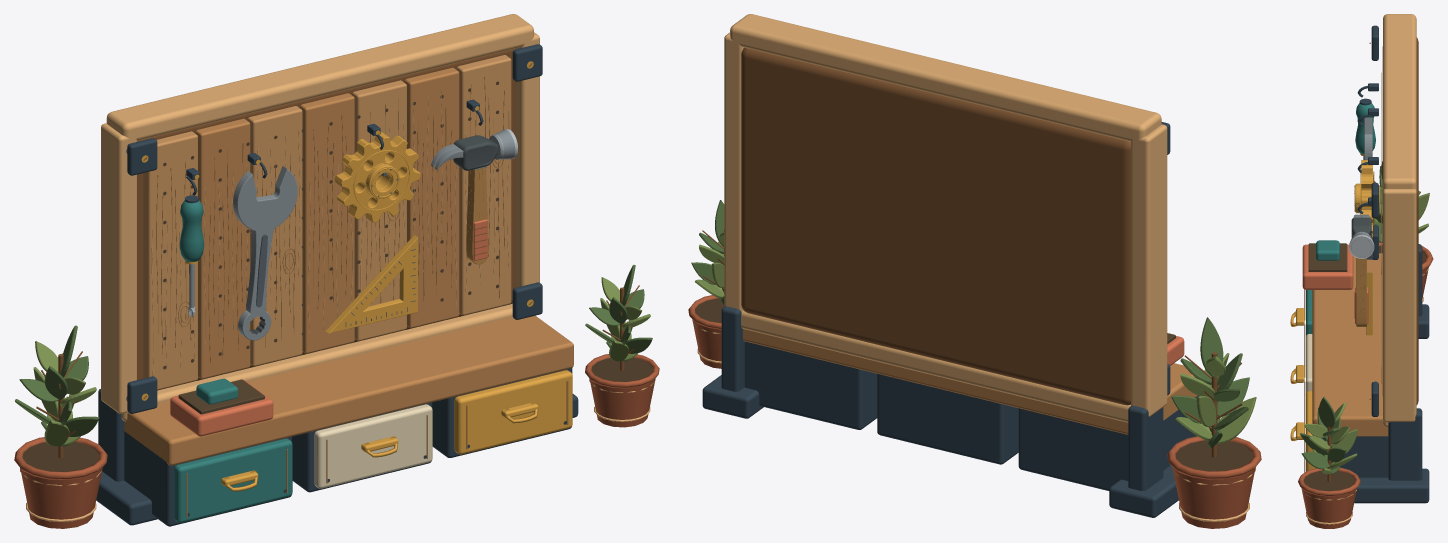
The model's file is source-workshop-tool-rack-final.glb.
The picture shows the model from 3 angles, left to right: view 1: azimuth 30°, elevation 25°; view 2: azimuth 150°, elevation 25°; view 3: azimuth 270°, elevation 25°; orthographic projection. The views are drawn at different scales.
Parts seen in each view (by area): view 1: timber, plank, edge, brass (×3), navy, pot (×2), teal, cream, grain, darkWood, steel, grainLight (+6 smaller); view 2: darkWood, edge, navy, pot (×2), timber, soil, Leaf_8, Leaf_1; view 3: edge, timber, navy, pot (×2), brass (×3), coral, darkWood, teal, soil, Wood_Handle, shadow, Teal_Handle (+13 smaller).
Part boxes in pixels (x1=…): timber: x1=124, y1=67, x2=573, y2=465; plank: x1=143, y1=55, x2=511, y2=389; edge: x1=101, y1=14, x2=539, y2=421; brass (×3): x1=141, y1=61, x2=572, y2=491; navy: x1=96, y1=44, x2=578, y2=526; pot (×2): x1=14, y1=354, x2=659, y2=528; teal: x1=174, y1=378, x2=292, y2=522; cream: x1=314, y1=404, x2=432, y2=488; grain: x1=156, y1=77, x2=568, y2=517; darkWood: x1=137, y1=48, x2=532, y2=398; steel: x1=233, y1=166, x2=297, y2=340; grainLight: x1=151, y1=88, x2=509, y2=375; darkWood: x1=741, y1=47, x2=1130, y2=405; edge: x1=724, y1=14, x2=1167, y2=422; navy: x1=702, y1=122, x2=1199, y2=517; pot (×2): x1=688, y1=295, x2=1261, y2=528; timber: x1=743, y1=329, x2=1197, y2=434; soil: x1=1175, y1=440, x2=1253, y2=471; Leaf_8: x1=1200, y1=317, x2=1223, y2=377; Leaf_1: x1=1217, y1=397, x2=1256, y2=443; edge: x1=1383, y1=14, x2=1416, y2=427; timber: x1=1312, y1=68, x2=1388, y2=436; navy: x1=1315, y1=25, x2=1429, y2=503; pot (×2): x1=1298, y1=242, x2=1433, y2=528; brass (×3): x1=1290, y1=160, x2=1379, y2=471; coral: x1=1302, y1=244, x2=1353, y2=289; darkWood: x1=1354, y1=37, x2=1418, y2=404; teal: x1=1306, y1=240, x2=1339, y2=335; soil: x1=1303, y1=470, x2=1355, y2=490; Wood_Handle: x1=1356, y1=258, x2=1366, y2=326; shadow: x1=1308, y1=243, x2=1347, y2=271; Teal_Handle: x1=1355, y1=103, x2=1375, y2=154.
Bounding box in the file's own units: 2.04 × 1.25 × 0.5082.
